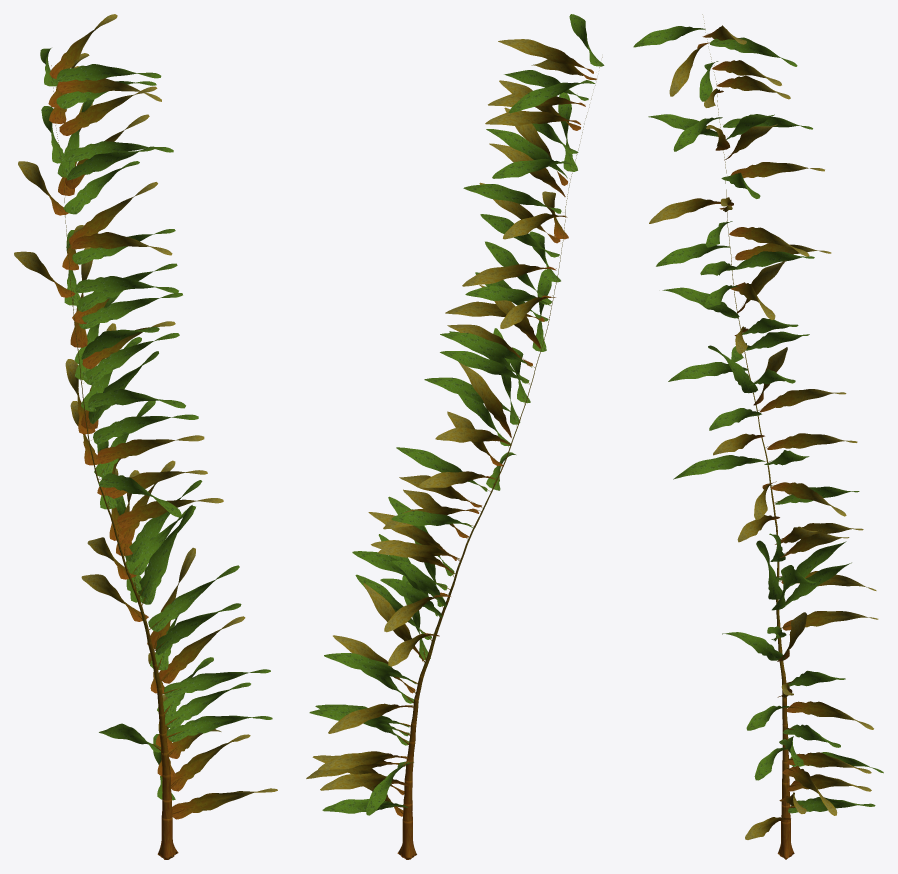
File: kelp_as 1.fbx
The picture shows the model from 3 angles, left to right: view 1: azimuth 30°, elevation 25°; view 2: azimuth 150°, elevation 25°; view 3: azimuth 270°, elevation 25°; orthographic projection. The views are drawn at different scales.
Parts seen in each view (by area): view 1: Stalk_Stalk; view 2: Stalk_Stalk; view 3: Stalk_Stalk.
Part boxes in pixels (bbox=[...]): Stalk_Stalk: bbox=[14, 14, 277, 859]; Stalk_Stalk: bbox=[306, 14, 604, 859]; Stalk_Stalk: bbox=[633, 14, 883, 859].
Bounding box in the file's own units: 136 × 447 × 130.
Materials: 3 (3 with a texture image).
